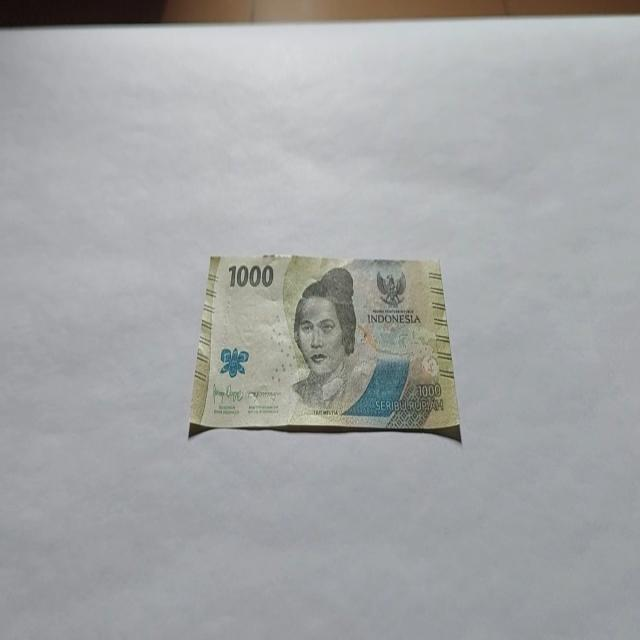seribu rupiah kertas: (188, 252, 462, 442)
